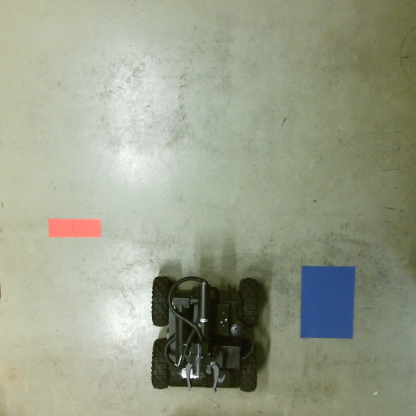Blue: (298, 264, 356, 340)
Jaguar: (149, 276, 260, 393)
Red: (46, 218, 103, 240)
